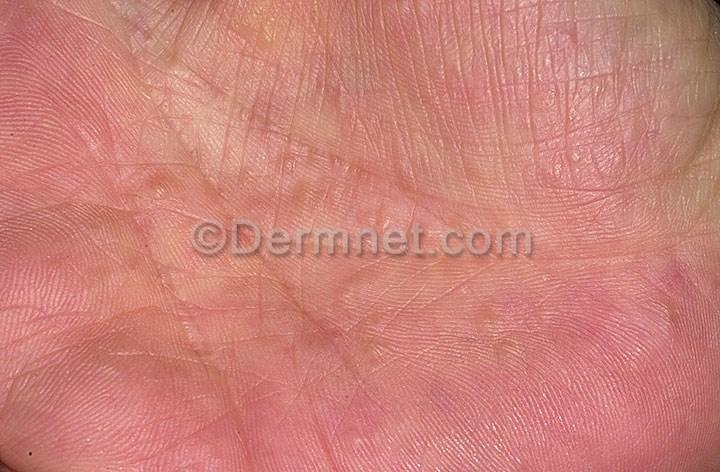Eczema: (228, 95, 419, 220), (342, 303, 424, 376), (536, 133, 610, 199), (228, 3, 312, 60), (489, 321, 546, 382), (321, 267, 385, 320), (514, 74, 580, 125), (137, 168, 186, 212)
